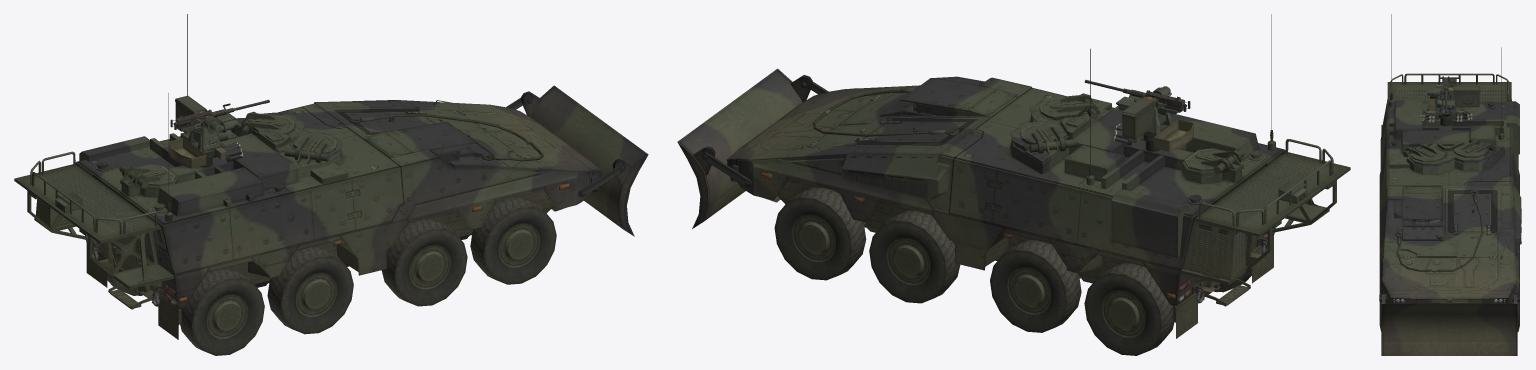
Rendered from boxer.glb.
3 renders of one model, left to right at view 1: azimuth 30°, elevation 25°; view 2: azimuth 150°, elevation 25°; view 3: azimuth 270°, elevation 25°, orthographic. The views are drawn at different scales.
Visible parts, largest first — view 1: hull, topboxes, front piece, wheel2, wheel6, wheel4, wheel8, bascket, alpha plate, hatch3, mount, mudguard (+8 smaller); view 2: hull, topboxes, bascket, front piece, wheel, wheel5, wheel3, wheel7, alpha plate, sidebox, hatch3, mount (+8 smaller); view 3: hull, front piece, topboxes, hatch3, alpha plate, bascket, bars, mount, ammobox, hatch2, hatch, cable (+5 smaller).
Part boxes in pixels (x1,y1,x2,y2): hull: (75, 100, 601, 309); topboxes: (120, 112, 348, 215); front piece: (506, 85, 648, 236); wheel2: (470, 197, 556, 284); wheel6: (267, 246, 353, 334); wheel4: (381, 219, 467, 306); wheel8: (180, 268, 264, 355); bascket: (14, 136, 174, 289); alpha plate: (17, 165, 157, 240); hatch3: (363, 121, 475, 162); mount: (169, 110, 226, 168); mudguard: (86, 243, 181, 339); hull: (727, 77, 1285, 306); topboxes: (1010, 97, 1259, 190); bascket: (1111, 152, 1350, 284); front piece: (677, 68, 828, 228); wheel: (774, 187, 866, 280); wheel5: (990, 239, 1081, 332); wheel3: (869, 210, 960, 303); wheel7: (1084, 263, 1174, 355); alpha plate: (1198, 153, 1347, 232); sidebox: (841, 153, 950, 199); hatch3: (900, 76, 1019, 116); mount: (1132, 86, 1193, 151); hull: (1379, 101, 1519, 303); front piece: (1379, 293, 1519, 355); topboxes: (1389, 100, 1504, 174); hatch3: (1393, 186, 1442, 226); alpha plate: (1389, 82, 1510, 102); bascket: (1381, 79, 1519, 154); bars: (1390, 73, 1509, 101); mount: (1427, 86, 1464, 126); ammobox: (1453, 86, 1480, 107); hatch2: (1403, 142, 1445, 161); hatch: (1453, 138, 1496, 157); cable: (1395, 189, 1483, 271).
Size of the model in its own units: 9.59 by 4.56 by 3.02.
10 materials, 10 textured.
